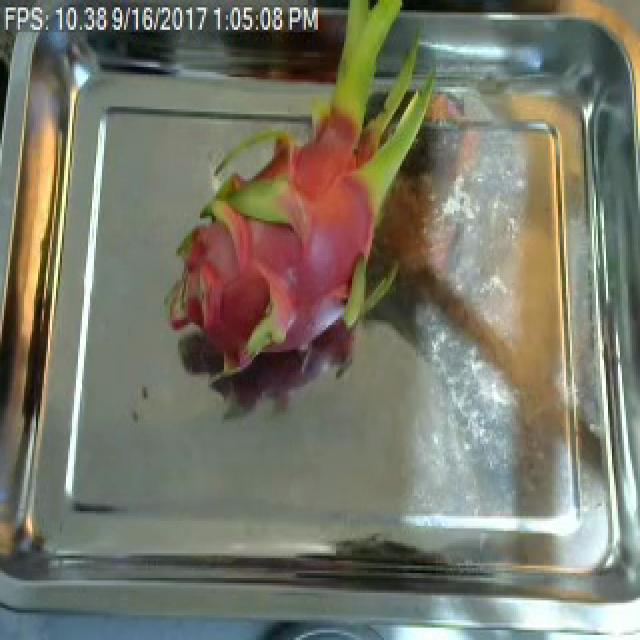fruit: (146, 5, 454, 389)
